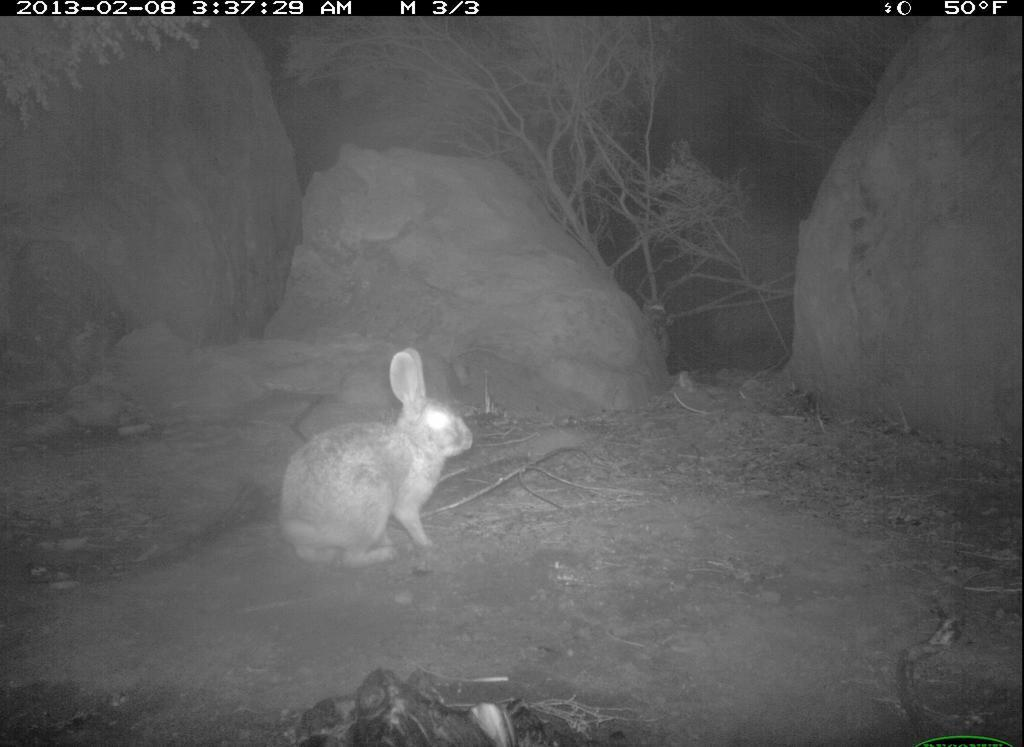rabbit: (265, 344, 489, 571)
